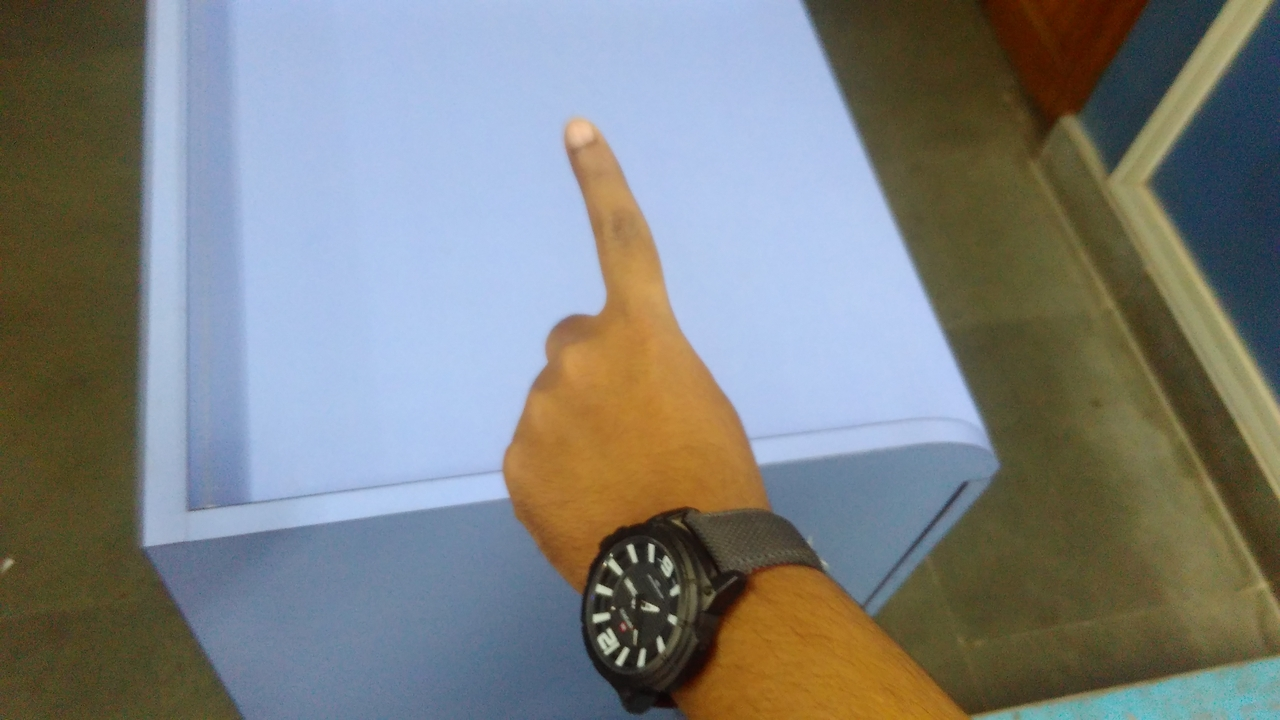fingertip: (550, 108, 618, 162)
